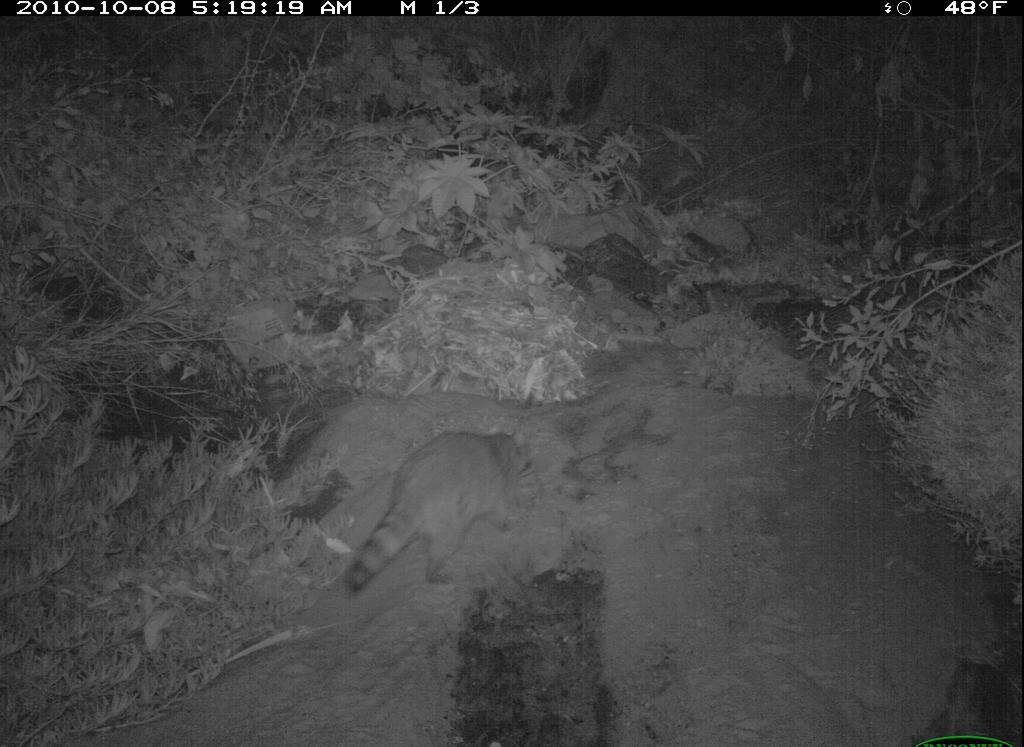raccoon: (338, 429, 548, 602)
